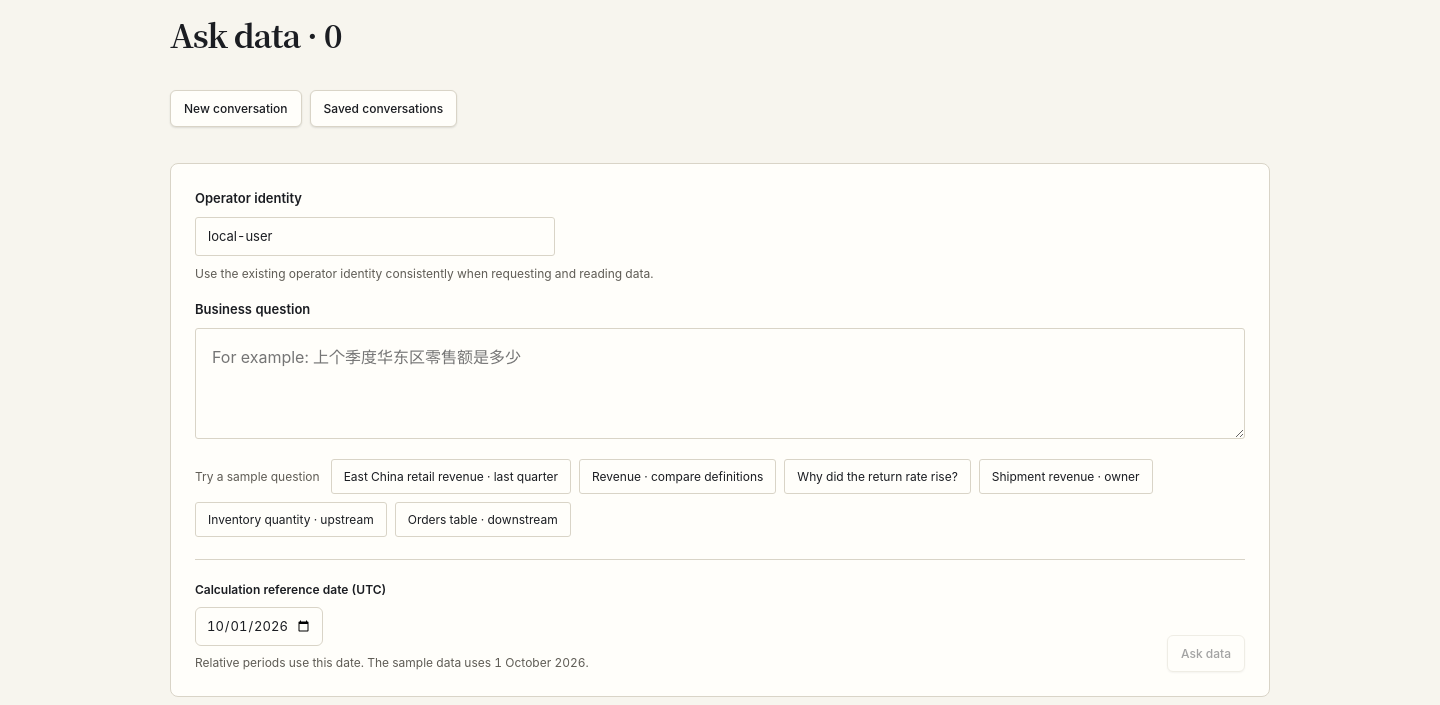
Test: keeps the pinned subject when a subject choice is followed by an intent choice
The image size is (1440, 705).
Type "营业额有哪些关联" into the text box labelled "Business question" at (720, 383), box x1=195 y1=328 x2=1245 y2=439
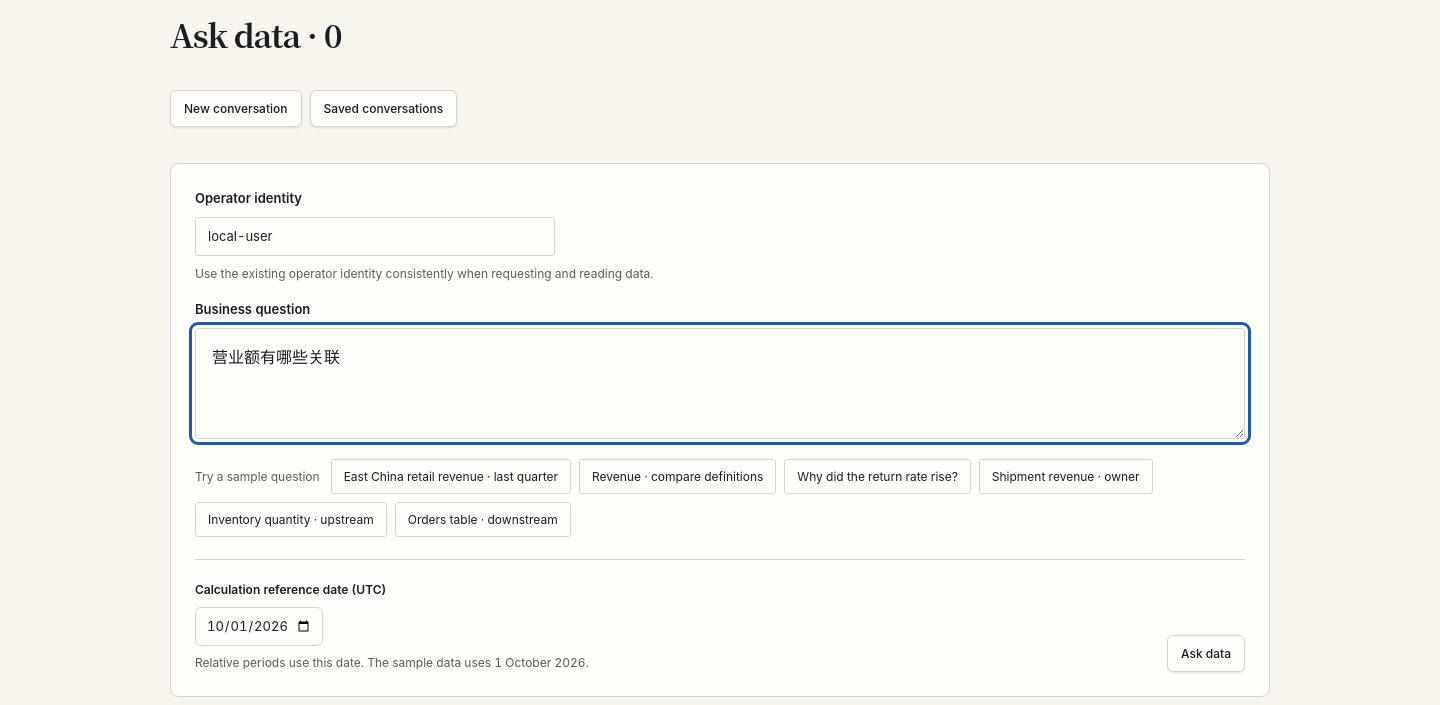
Click the button "Ask data" at (1206, 654), box x1=1167 y1=635 x2=1245 y2=672
(page scrolled)
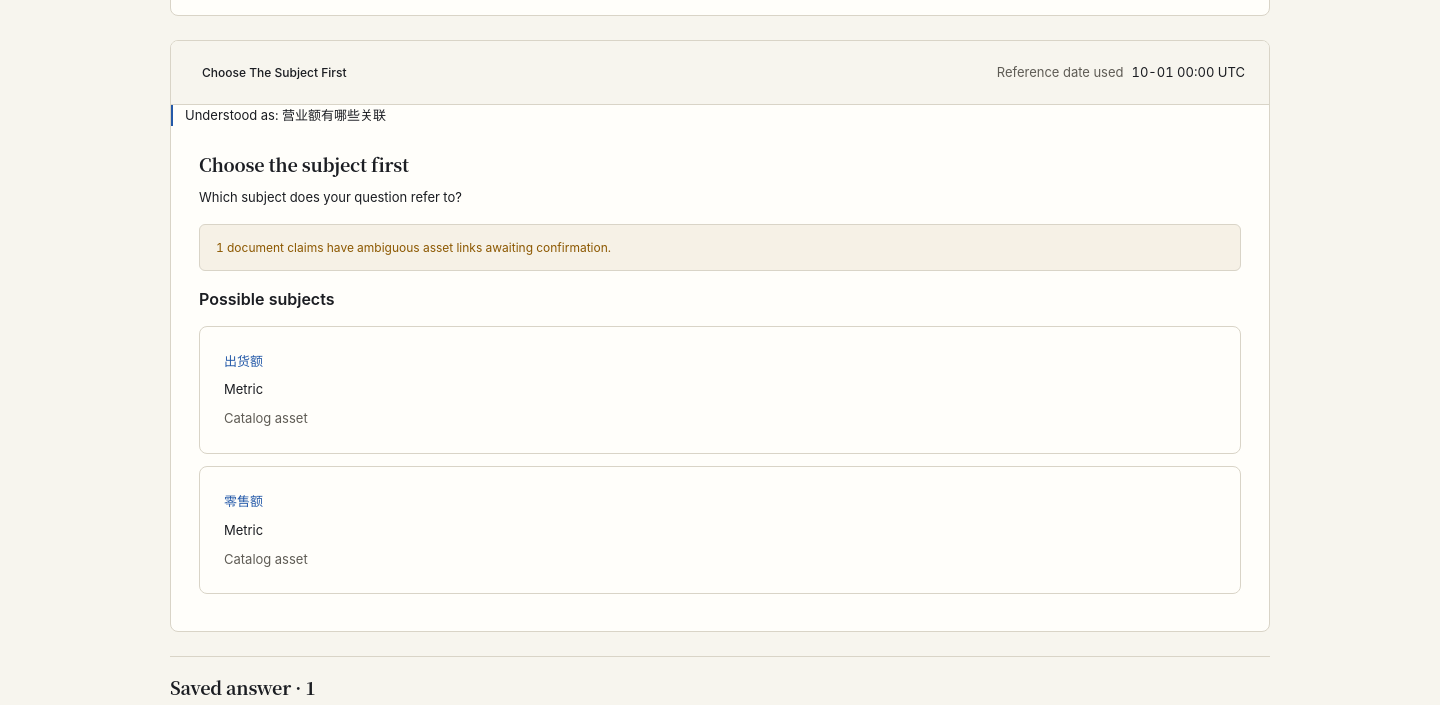
Click the button "出货额 Metric Catalog asset" at (244, 361), box x1=216 y1=343 x2=1224 y2=437
(page scrolled)
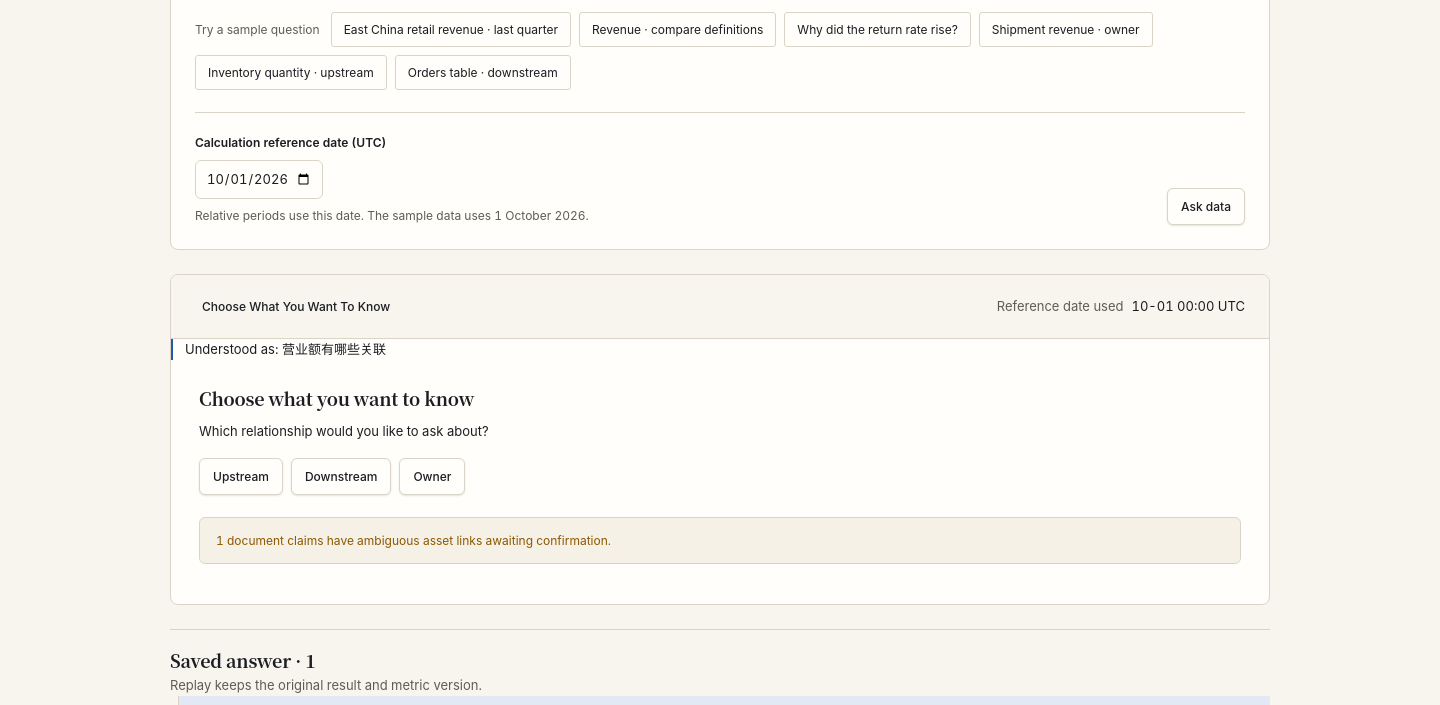
Click the button "Downstream" at (341, 476), box x1=291 y1=458 x2=391 y2=495
(page scrolled)
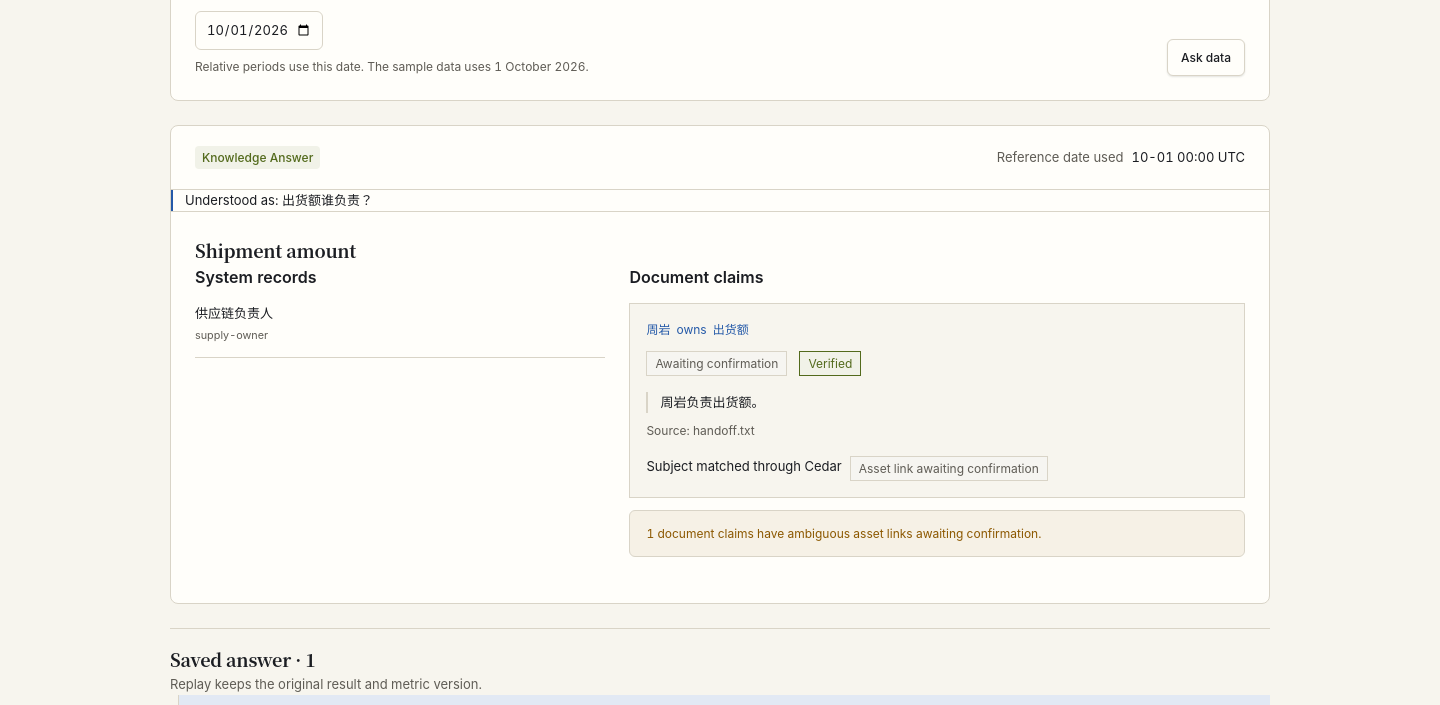
Expected: the element "System records" is shown, x1=195 y1=267 x2=605 y2=358
